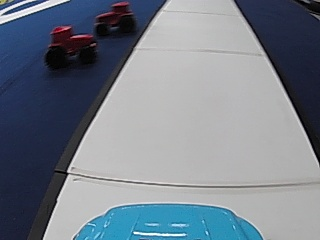tractor: (43, 22, 97, 69), (91, 1, 135, 36)
